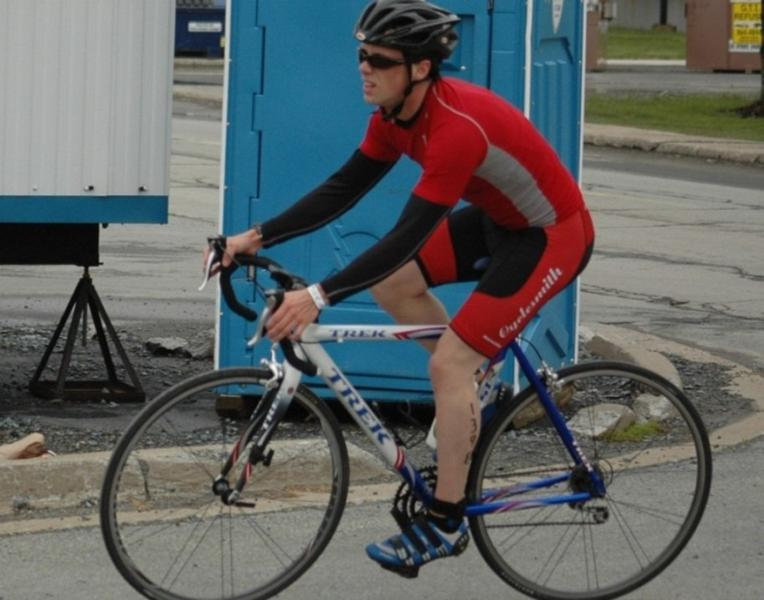person: (203, 3, 604, 568)
